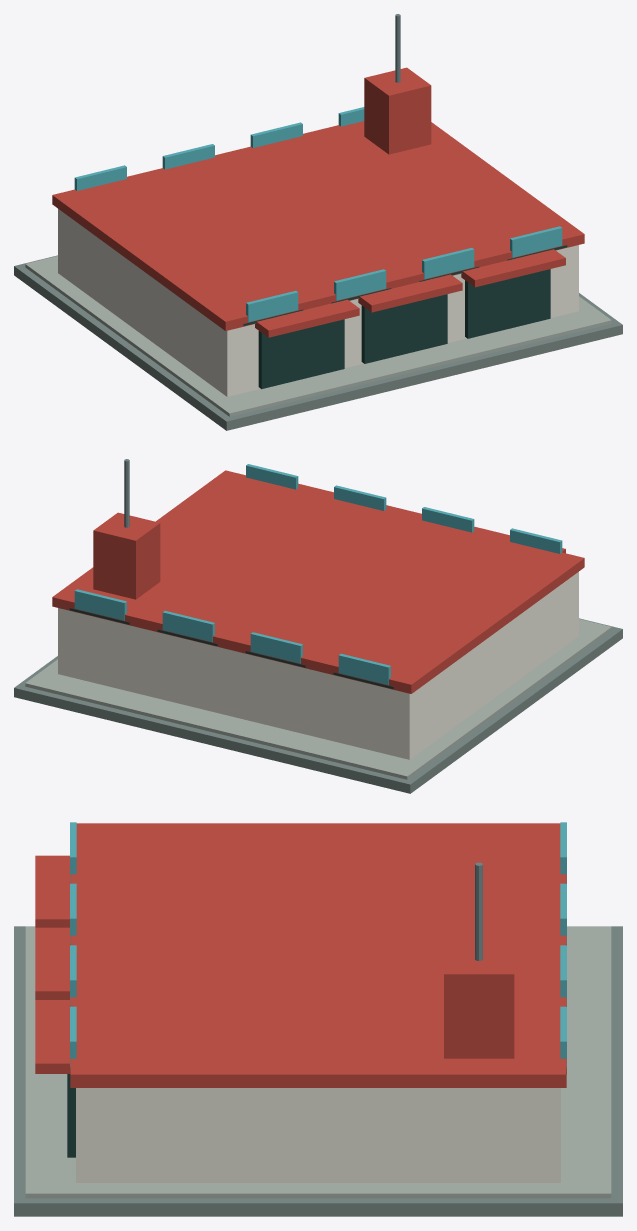
Rendered from fire_lv1.glb.
3 renders of one model, top to bottom at view 1: azimuth 30°, elevation 25°; view 2: azimuth 150°, elevation 25°; view 3: azimuth 270°, elevation 25°, orthographic. The views are drawn at different scales.
Parts seen in each view (by area): view 1: red, ivory, dark, concrete, pavement, glass; view 2: red, ivory, concrete, pavement, glass, dark; view 3: red, ivory, concrete, pavement, glass, steel, dark.
Boxes of the visible parts, box(x1,y1,x2,y2) form: red: box(52, 67, 584, 337); ivory: box(58, 209, 578, 396); dark: box(243, 245, 567, 389); concrete: box(25, 256, 611, 416); pavement: box(14, 255, 622, 430); glass: box(74, 107, 562, 322); red: box(52, 470, 584, 693); ivory: box(58, 572, 578, 759); concrete: box(25, 619, 611, 779); pavement: box(14, 618, 622, 793); glass: box(74, 464, 562, 685); dark: box(69, 608, 393, 688); red: box(35, 823, 566, 1087); ivory: box(76, 1088, 560, 1182); concrete: box(25, 926, 611, 1198); pavement: box(14, 926, 622, 1216); glass: box(70, 822, 566, 1066); steel: box(475, 862, 482, 960); dark: box(67, 883, 566, 1157).
Size of the model in its own units: 9.8 by 5.09 by 9.1.
